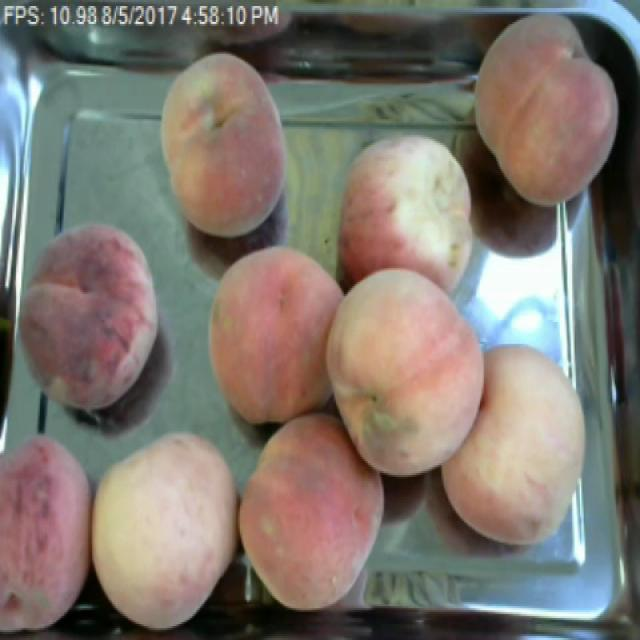Fruit: (319, 262, 493, 487), (431, 334, 604, 556), (89, 415, 247, 640), (7, 215, 170, 431), (237, 402, 395, 620), (461, 10, 627, 213), (200, 239, 351, 439), (153, 42, 295, 246), (329, 131, 487, 302), (0, 417, 111, 640)
